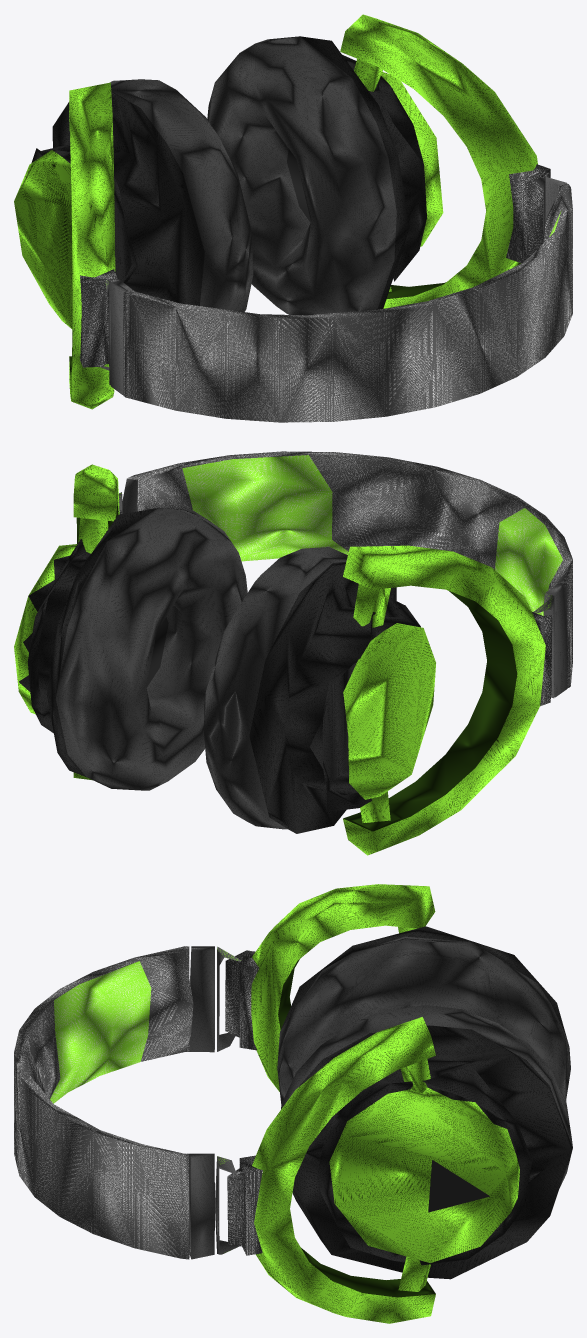
Rendered from model_align.obj.
The picture shows the model from 3 angles, top to bottom: view 1: azimuth 30°, elevation 25°; view 2: azimuth 150°, elevation 25°; view 3: azimuth 270°, elevation 25°; orthographic projection. The views are drawn at different scales.
Bounding box in the file's own units: 0.1449 × 0.0903 × 0.1519.
